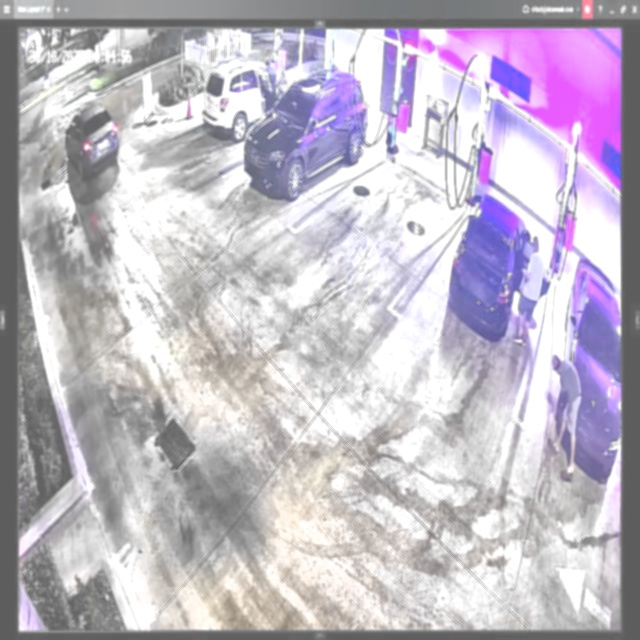Car: (247, 69, 368, 197), (448, 196, 548, 338)
